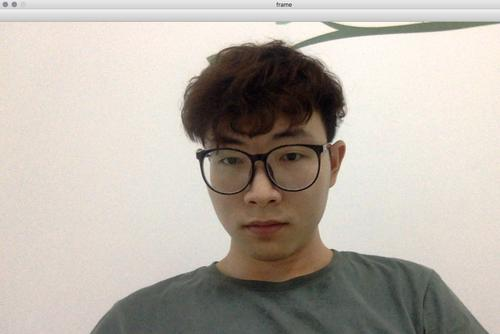no_mask: (194, 89, 339, 262)
